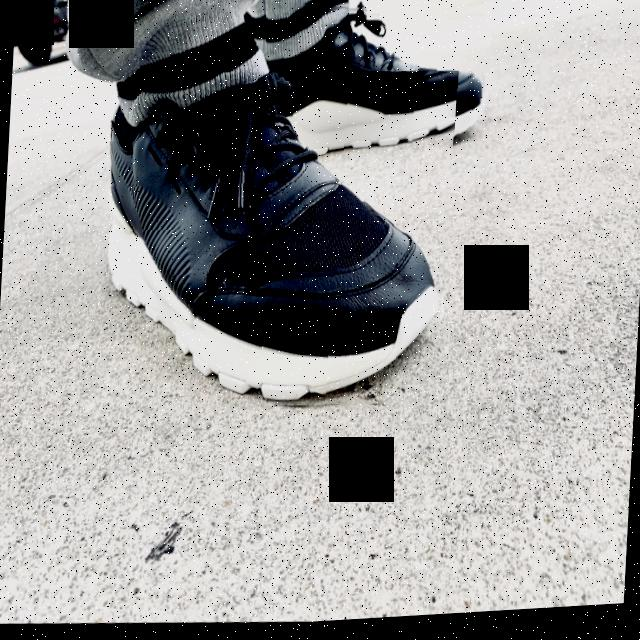shoe: (96, 59, 459, 430), (250, 0, 494, 173)
